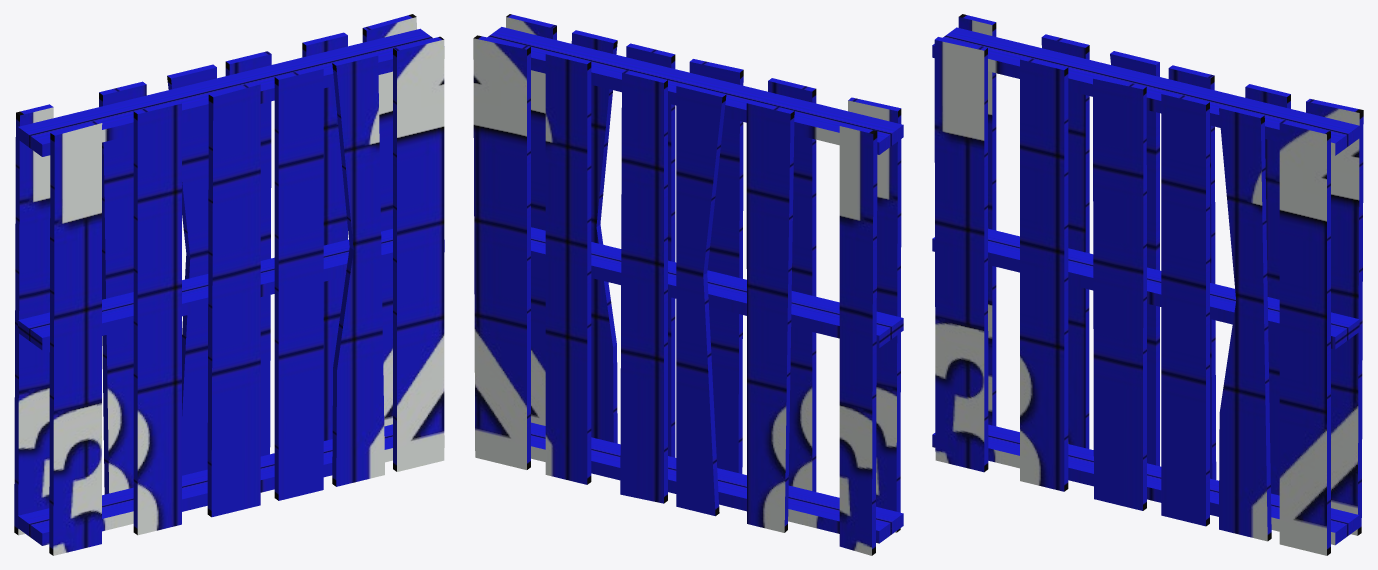
Rendered from pallet01.glb.
3 renders of one model, left to right at view 1: azimuth 30°, elevation 25°; view 2: azimuth 150°, elevation 25°; view 3: azimuth 330°, elevation 25°, orthographic.
Bounding box in the file's own units: 72 × 72 × 10.98.
Materials: 1 (1 with a texture image).
